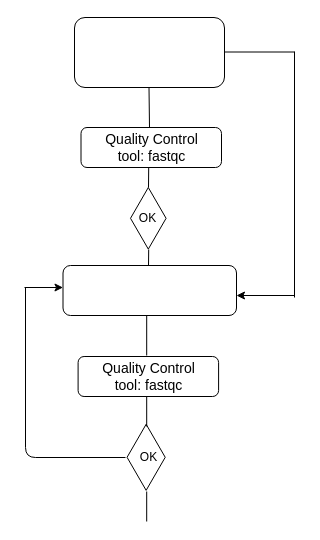
This 320x540 diagram has some shape labels left out. Each missing label, with the box of its shape:
DATASET paired sequence raw data( fastq format ): (74, 16, 224, 88)
Trim Illumina reads tool: sickle: (62, 264, 236, 316)
